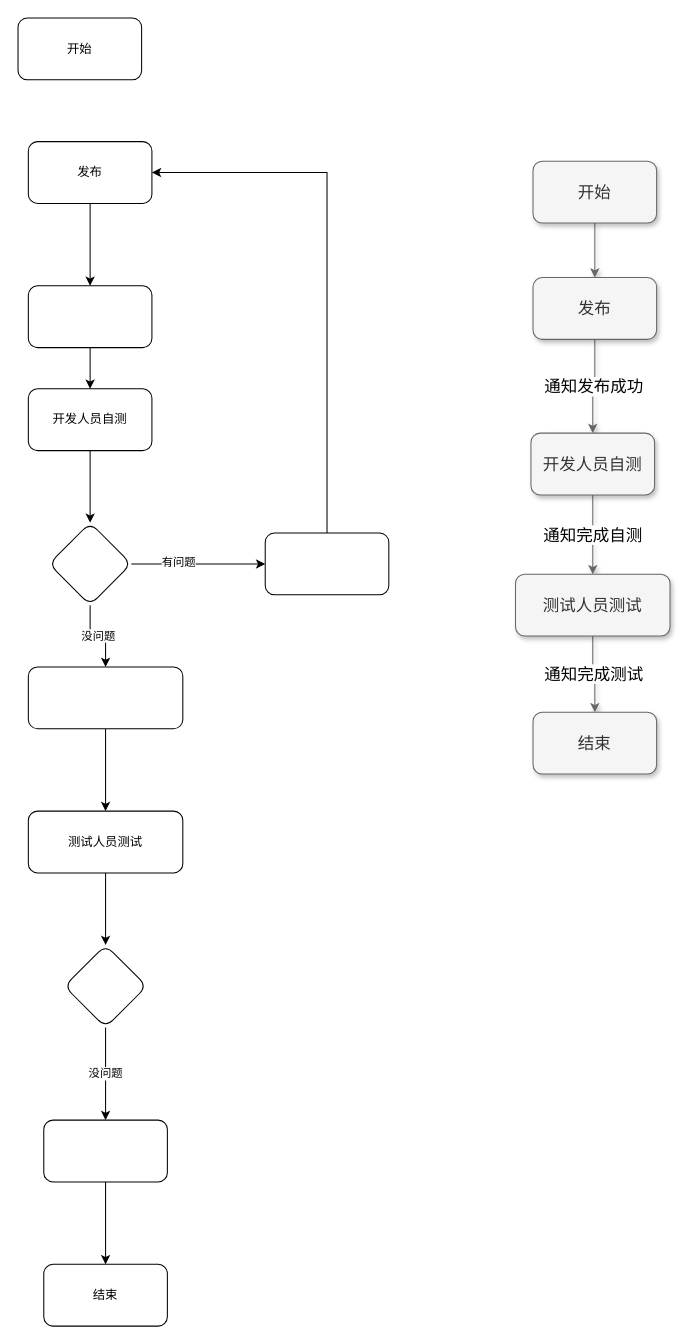
This 694x1344 diagram has some shape labels left out. Each missing label, with the centre of its shape:
"在群里发布测试通过" goes at pixel 105 1150.
"在群里通知发布成功" goes at pixel 89 316.
"在群里通知自测没问题" goes at pixel 105 697.
"解决" goes at pixel 326 563.
